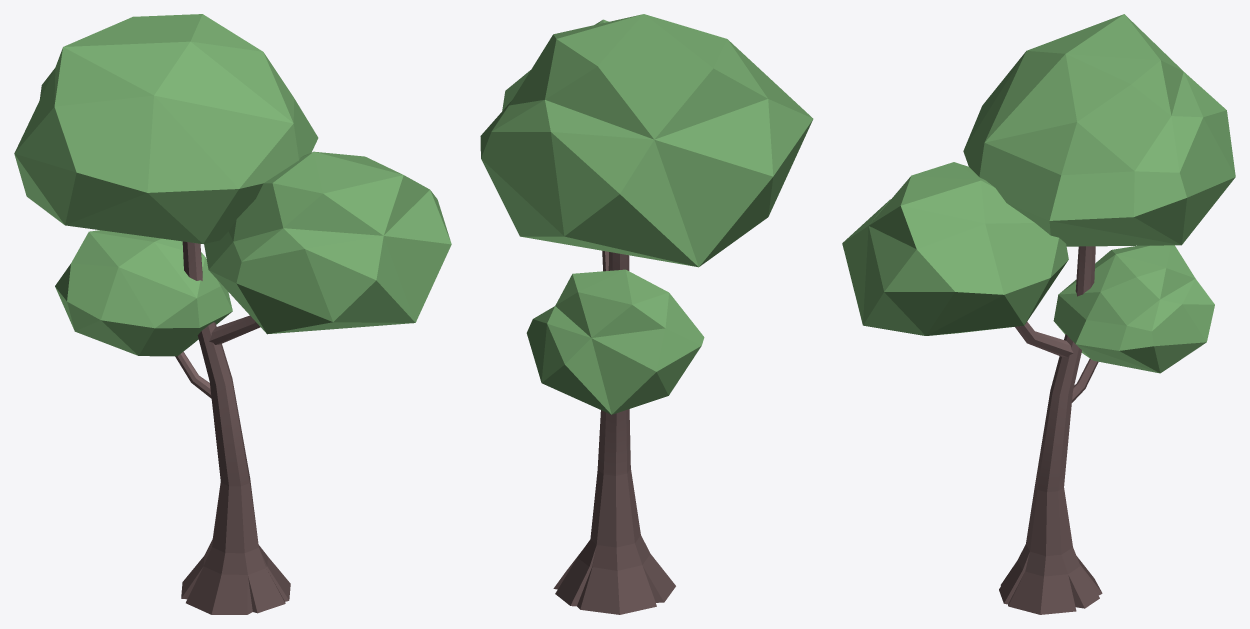
File: Tree.fbx
3 renders of one model, left to right at view 1: azimuth 30°, elevation 25°; view 2: azimuth 150°, elevation 25°; view 3: azimuth 270°, elevation 25°, orthographic. The views are drawn at different scales.
Parts seen in each view (by area): view 1: polySurface2566; view 2: polySurface2566; view 3: polySurface2566.
Boxes of the visible parts, x1=… form: polySurface2566: x1=14, y1=14, x2=451, y2=614; polySurface2566: x1=480, y1=14, x2=813, y2=614; polySurface2566: x1=842, y1=14, x2=1235, y2=614.
Size of the model in its own units: 0.0221 by 0.0347 by 0.0238.
